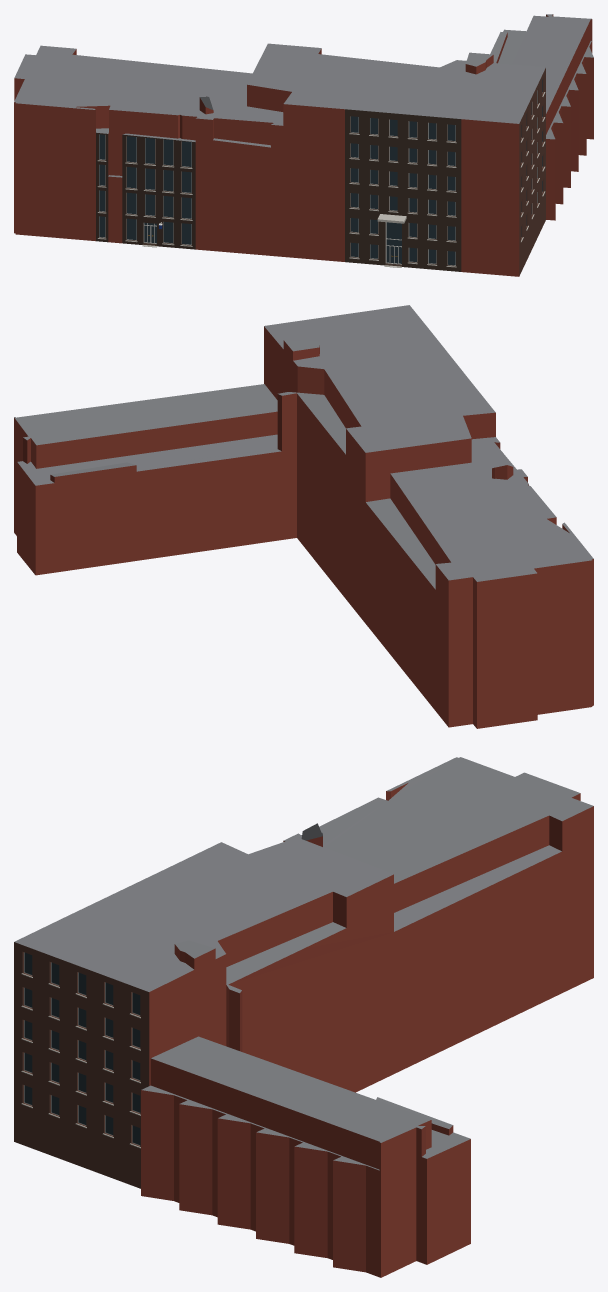
File: recipe-large-politiepost-ijburg.glb
3 views of the same model, one above another, from view 1: azimuth 30°, elevation 25°; view 2: azimuth 150°, elevation 25°; view 3: azimuth 270°, elevation 25° (orthographic). The views are drawn at different scales.
Visible parts, largest first — view 1: politiepost-ijburg; view 2: politiepost-ijburg; view 3: politiepost-ijburg.
Part boxes in pixels (x1=…): politiepost-ijburg: x1=14, y1=14, x2=593, y2=276; politiepost-ijburg: x1=14, y1=305, x2=593, y2=728; politiepost-ijburg: x1=14, y1=757, x2=593, y2=1277.
Size of the model in its own units: 77.65 by 21.83 by 54.46.
